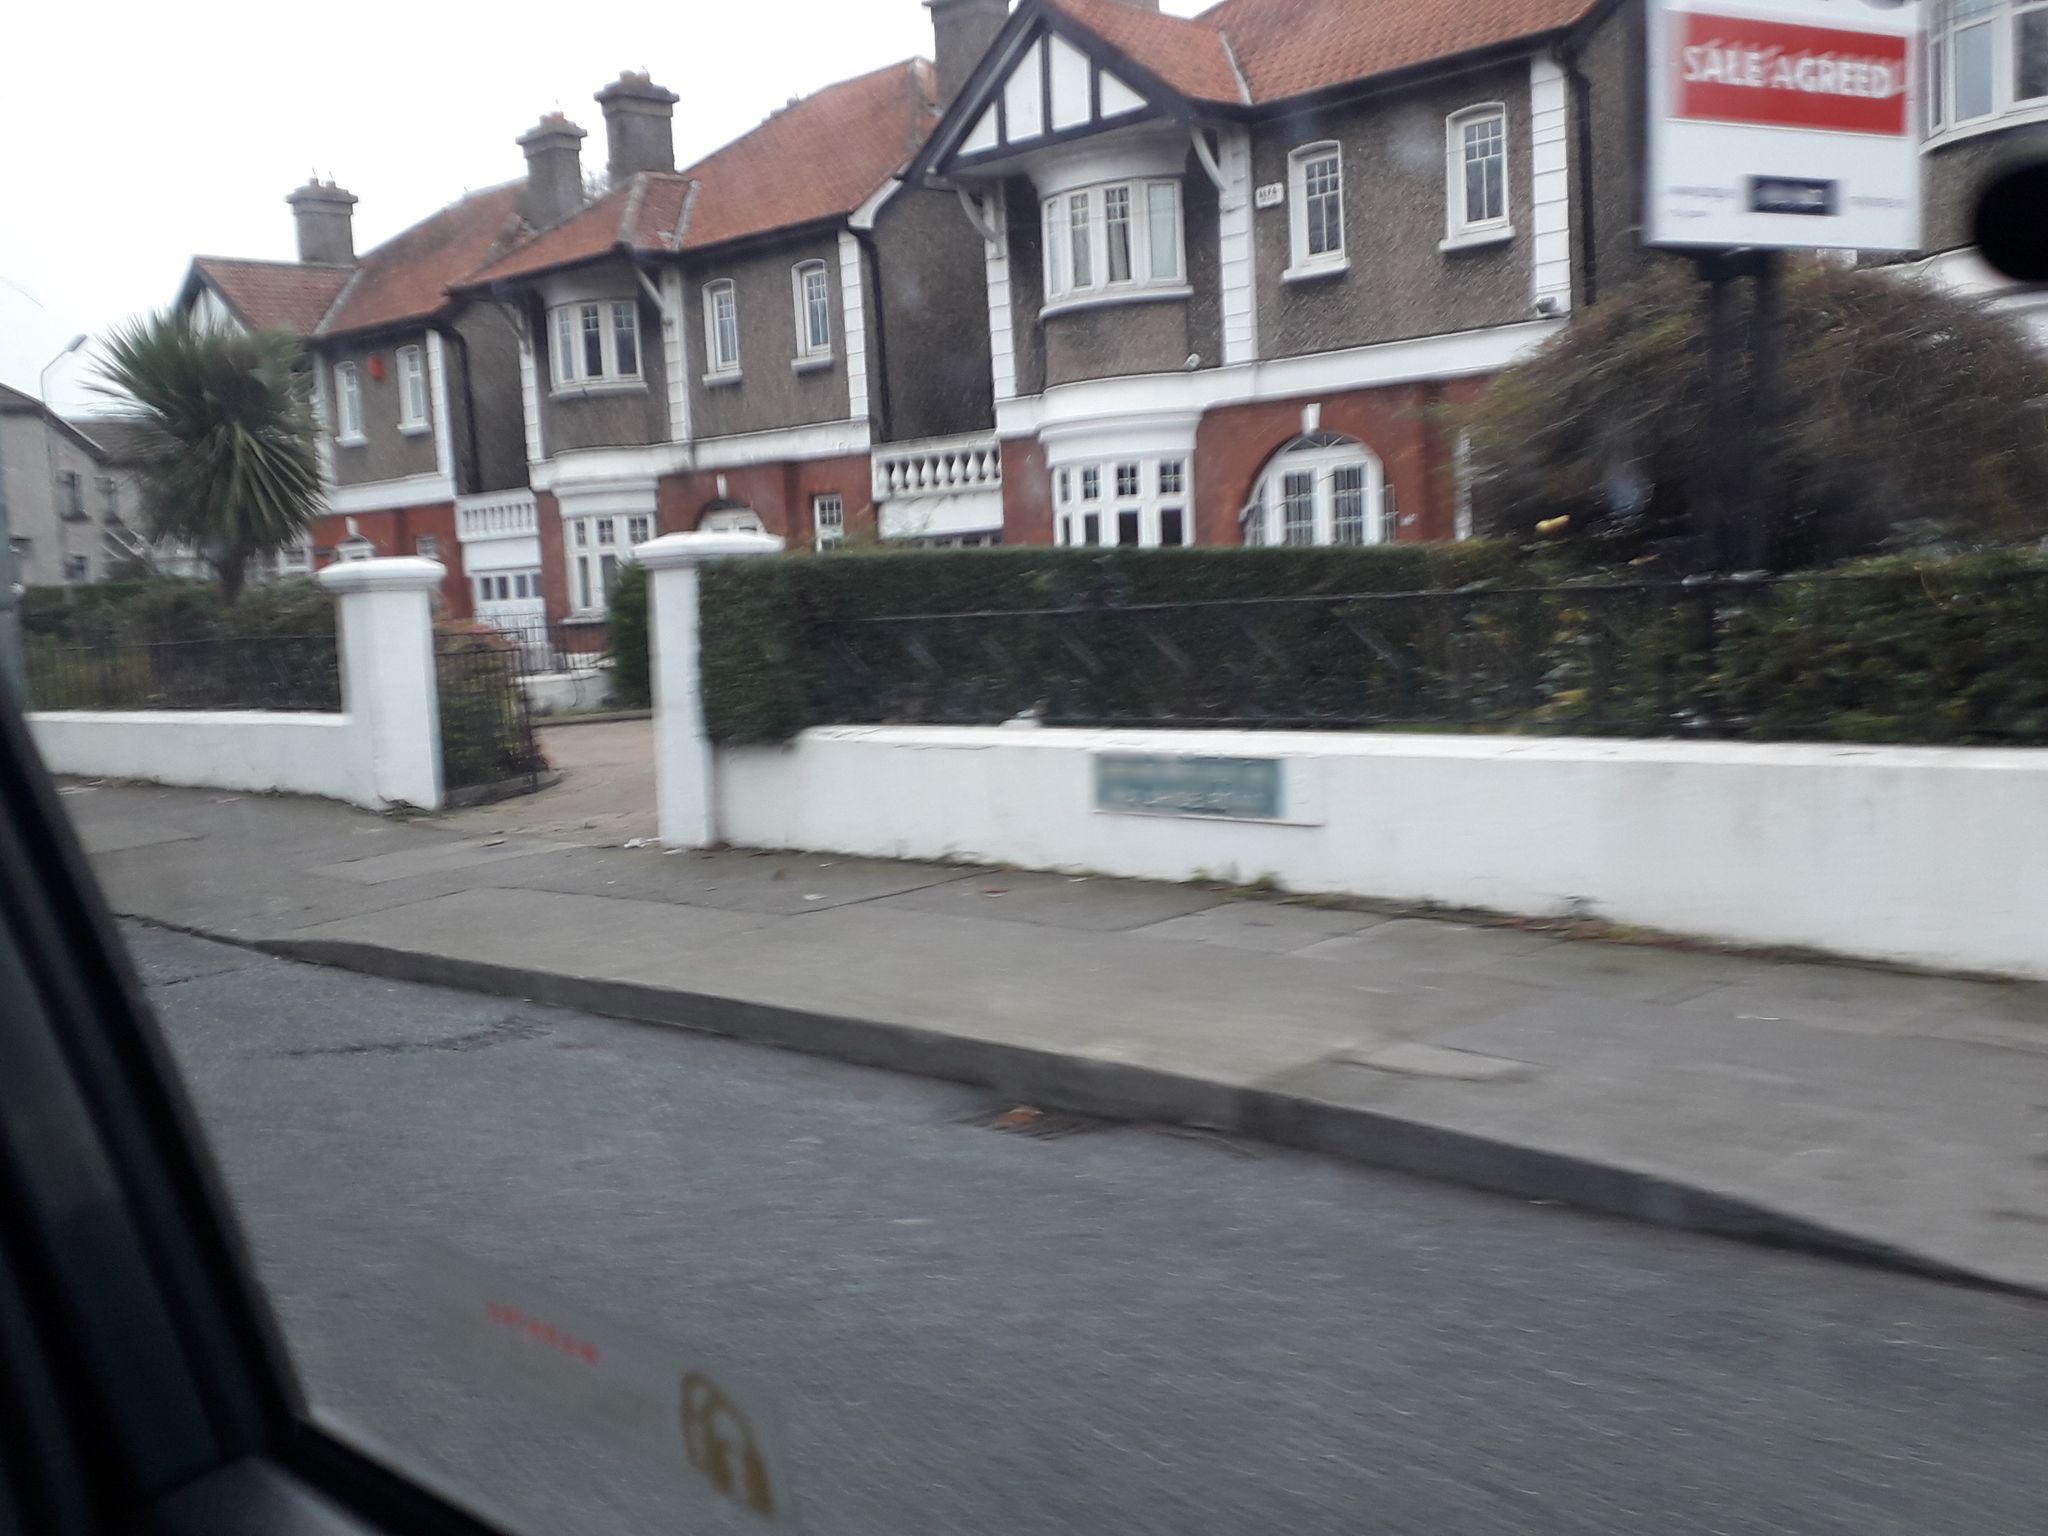property sign: (1601, 2, 1950, 253)
